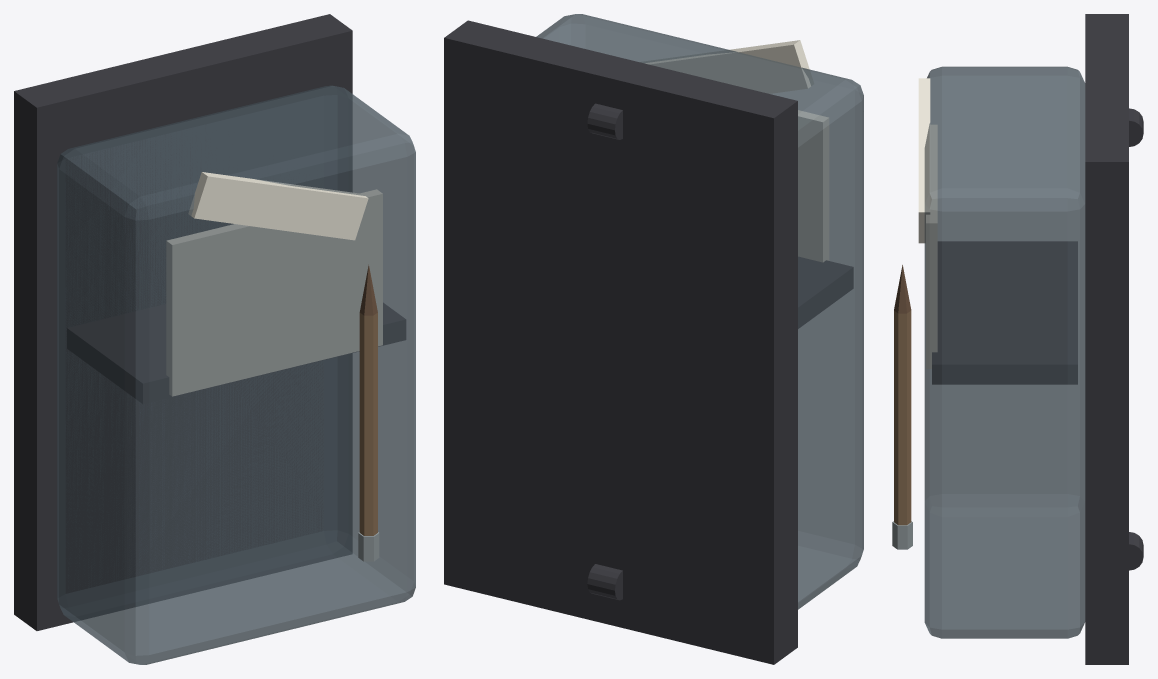
The model's file is ctl_dropoff_props.glb.
The picture shows the model from 3 angles, left to right: view 1: azimuth 30°, elevation 25°; view 2: azimuth 150°, elevation 25°; view 3: azimuth 270°, elevation 25°; orthographic projection. The views are drawn at different scales.
Visible parts, largest first — view 1: CTL_SupplyHolder_Body, CTL_SupplyHolder_Backplate, CTL_FilmEnvelope, CTL_FilmEnvelope_Flap, CTL_SupplyHolder_Divider, CTL_Pencil_Body; view 2: CTL_SupplyHolder_Backplate, CTL_SupplyHolder_Body, CTL_FilmEnvelope_Flap, CTL_FilmEnvelope, CTL_SupplyHolder_Divider, CTL_SupplyHolder_Screw_1.12, CTL_SupplyHolder_Screw_1.44; view 3: CTL_SupplyHolder_Body, CTL_SupplyHolder_Backplate, CTL_SupplyHolder_Divider, CTL_Pencil_Body, CTL_FilmEnvelope, CTL_FilmEnvelope_Flap, CTL_Pencil_Eraser, CTL_SupplyHolder_Screw_1.12, CTL_SupplyHolder_Screw_1.44, CTL_Pencil_Tip.
Part boxes in pixels (x1,y1,x2,y2): CTL_SupplyHolder_Body: (57,85,415,664); CTL_SupplyHolder_Backplate: (14,14,352,630); CTL_FilmEnvelope: (166,189,382,396); CTL_FilmEnvelope_Flap: (188,172,368,240); CTL_SupplyHolder_Divider: (67,302,406,403); CTL_Pencil_Body: (359,312,377,535); CTL_SupplyHolder_Backplate: (444,20,797,664); CTL_SupplyHolder_Body: (536,14,863,609); CTL_FilmEnvelope_Flap: (642,40,813,93); CTL_FilmEnvelope: (798,110,829,262); CTL_SupplyHolder_Divider: (798,256,853,328); CTL_SupplyHolder_Screw_1.12: (587,564,622,600); CTL_SupplyHolder_Screw_1.44: (587,103,622,139); CTL_SupplyHolder_Body: (924,66,1085,638); CTL_SupplyHolder_Backplate: (1085,14,1128,664); CTL_SupplyHolder_Divider: (932,241,1077,384); CTL_Pencil_Body: (894,310,911,525); CTL_FilmEnvelope: (926,124,937,368); CTL_FilmEnvelope_Flap: (918,78,930,243); CTL_Pencil_Eraser: (892,521,912,549); CTL_SupplyHolder_Screw_1.12: (1129,532,1143,570); CTL_SupplyHolder_Screw_1.44: (1129,108,1143,146); CTL_Pencil_Tip: (894,265,911,313).
Size of the model in its own units: 0.24 by 0.38 by 0.172.
